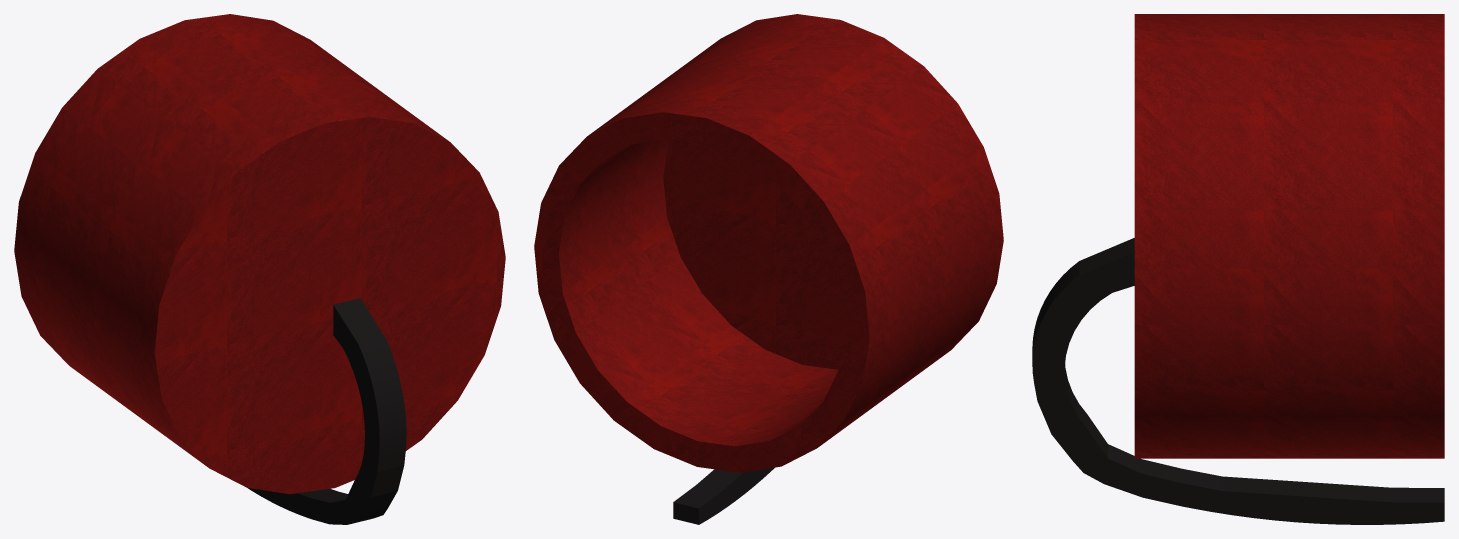
Rendered from chachiya.obj.
3 views of the same model, side by side, from view 1: azimuth 30°, elevation 25°; view 2: azimuth 150°, elevation 25°; view 3: azimuth 270°, elevation 25° (orthographic). The views are drawn at different scales.
Parts seen in each view (by area): view 1: Mesh1 Group2 Group1 Model, Mesh2 Group3 Group1 Model; view 2: Mesh1 Group2 Group1 Model, Mesh2 Group3 Group1 Model; view 3: Mesh1 Group2 Group1 Model, Mesh2 Group3 Group1 Model.
Boxes of the visible parts, box(x1,y1,x2,y2) form: Mesh1 Group2 Group1 Model: box(14, 14, 505, 494); Mesh2 Group3 Group1 Model: box(247, 298, 406, 524); Mesh1 Group2 Group1 Model: box(534, 14, 1003, 472); Mesh2 Group3 Group1 Model: box(673, 467, 774, 524); Mesh1 Group2 Group1 Model: box(1134, 14, 1444, 458); Mesh2 Group3 Group1 Model: box(1032, 238, 1444, 524).
Size of the model in its own units: 0.2599 by 0.3046 by 0.2395.
2 materials, 1 textured.
